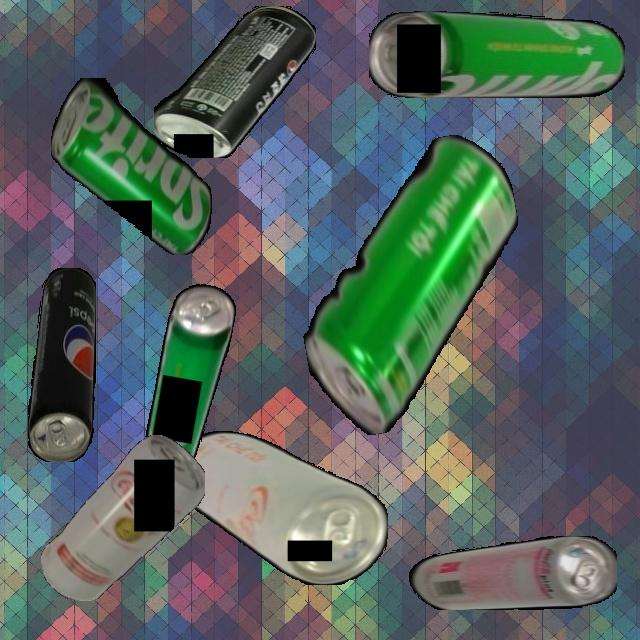debris: (274, 127, 550, 443), (173, 431, 388, 585), (50, 77, 212, 255), (40, 434, 205, 601), (153, 6, 316, 158), (369, 10, 625, 98), (138, 279, 239, 482), (404, 536, 617, 610), (27, 267, 96, 462)
